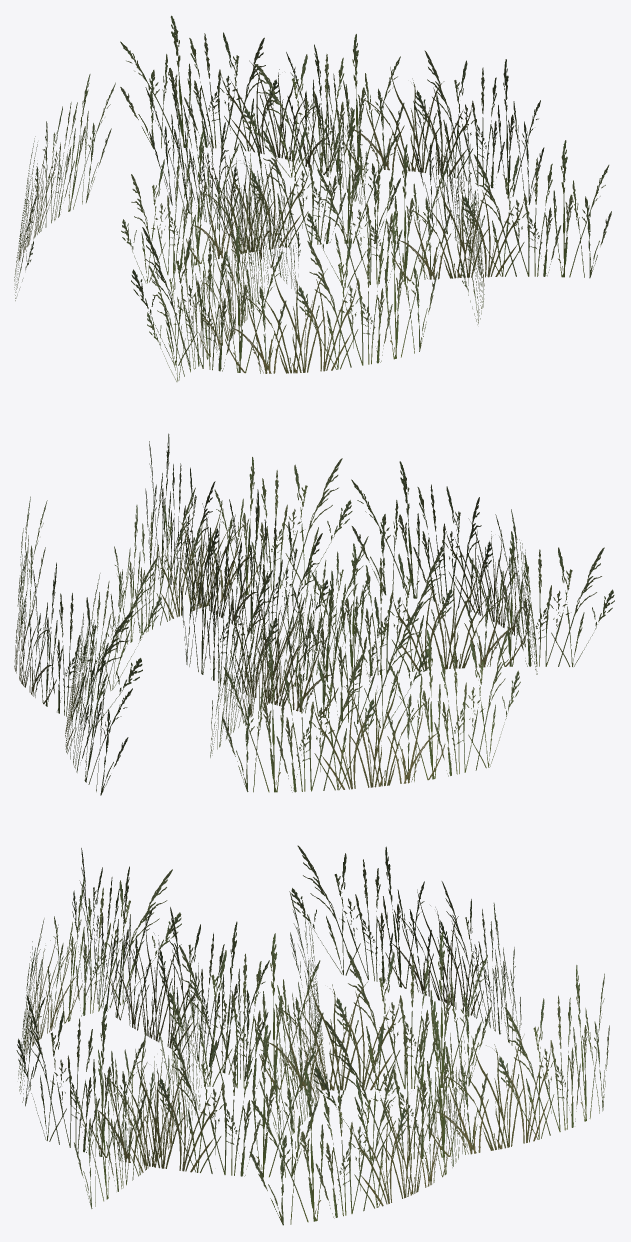
The model's file is SM_Grass02.fbx.
3 views of the same model, one above another, from view 1: azimuth 30°, elevation 25°; view 2: azimuth 150°, elevation 25°; view 3: azimuth 270°, elevation 25° (orthographic). The views are drawn at different scales.
Visible parts, largest first — view 1: Grass02_LOD0; view 2: Grass02_LOD0; view 3: Grass02_LOD0.
Part boxes in pixels (x1=…): Grass02_LOD0: x1=14, y1=15, x2=611, y2=381; Grass02_LOD0: x1=14, y1=433, x2=614, y2=795; Grass02_LOD0: x1=16, y1=845, x2=609, y2=1225.
Size of what is drawn, in the model's own units: 284 by 287 by 81.7.
